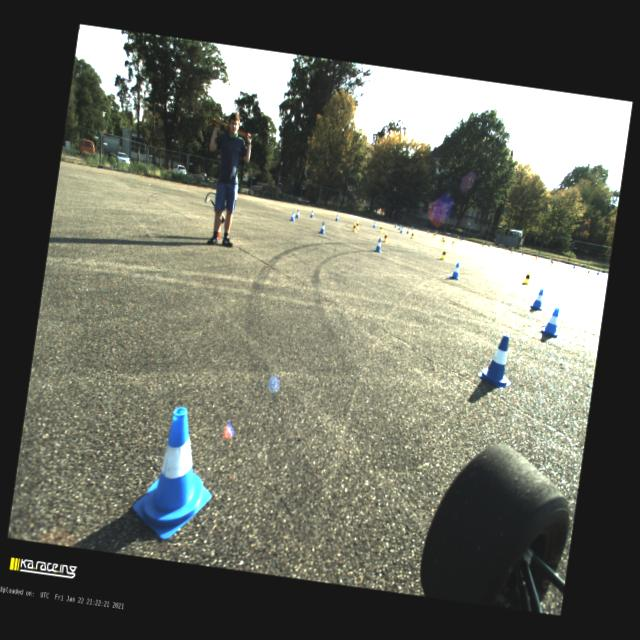blue_cone: (128, 403, 224, 545), (477, 332, 518, 389), (538, 305, 562, 338), (530, 288, 545, 310), (448, 262, 462, 280), (374, 238, 384, 252), (318, 222, 328, 234), (290, 212, 296, 222), (296, 210, 300, 218), (310, 210, 314, 218), (336, 214, 340, 222), (372, 222, 377, 228), (400, 227, 404, 233), (596, 270, 600, 275), (572, 264, 576, 269), (394, 223, 398, 228), (406, 228, 409, 233), (521, 251, 524, 256), (411, 226, 414, 230), (488, 243, 490, 248), (398, 225, 400, 230), (460, 238, 462, 242)
yellow_cone: (522, 270, 531, 286), (440, 248, 448, 260), (382, 232, 388, 243), (352, 222, 358, 232), (378, 225, 384, 232), (356, 222, 360, 230), (410, 232, 414, 239), (442, 239, 446, 245), (451, 240, 455, 246), (426, 230, 430, 236), (432, 232, 436, 238), (550, 260, 554, 266), (586, 269, 590, 275), (534, 256, 538, 261), (434, 232, 438, 237), (510, 249, 513, 254), (482, 242, 484, 248), (457, 236, 459, 242), (442, 236, 444, 242)
